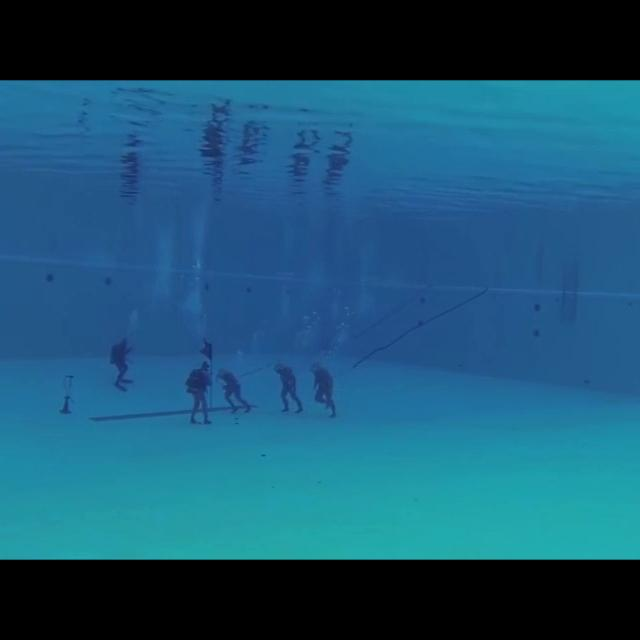human: (176, 354, 217, 429), (213, 357, 256, 422), (269, 352, 307, 420), (307, 356, 342, 425), (105, 329, 137, 397)
